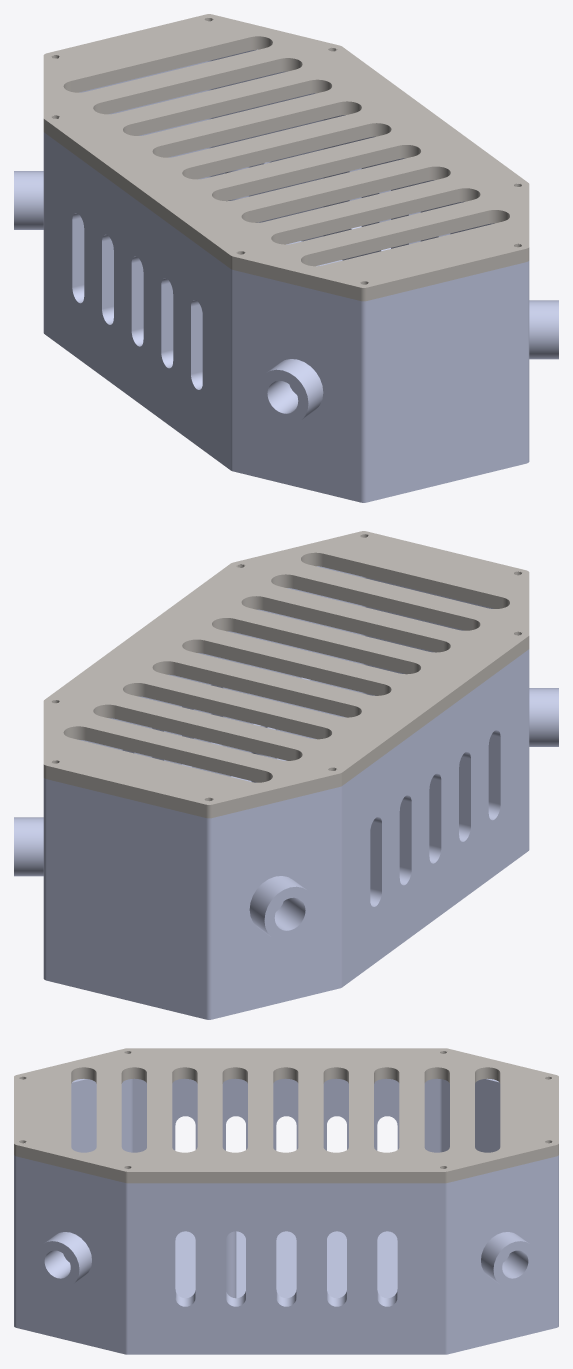
The model's file is TestASM.glb.
The picture shows the model from 3 angles, top to bottom: view 1: azimuth 30°, elevation 25°; view 2: azimuth 150°, elevation 25°; view 3: azimuth 270°, elevation 25°; orthographic projection. The views are drawn at different scales.
Parts seen in each view (by area): view 1: FRED_Prototype_1-1, Prototype_Lid-1; view 2: FRED_Prototype_1-1, Prototype_Lid-1; view 3: FRED_Prototype_1-1, Prototype_Lid-1.
Part boxes in pixels (left/top/right/bottom): FRED_Prototype_1-1: left=14, top=49, right=558, bottom=502; Prototype_Lid-1: left=43, top=14, right=529, bottom=301; FRED_Prototype_1-1: left=14, top=566, right=558, bottom=1019; Prototype_Lid-1: left=43, top=531, right=529, bottom=818; FRED_Prototype_1-1: left=14, top=1078, right=558, bottom=1354; Prototype_Lid-1: left=14, top=1048, right=558, bottom=1183.
Size of the model in its own units: 0.1176 by 0.08 by 0.216.
